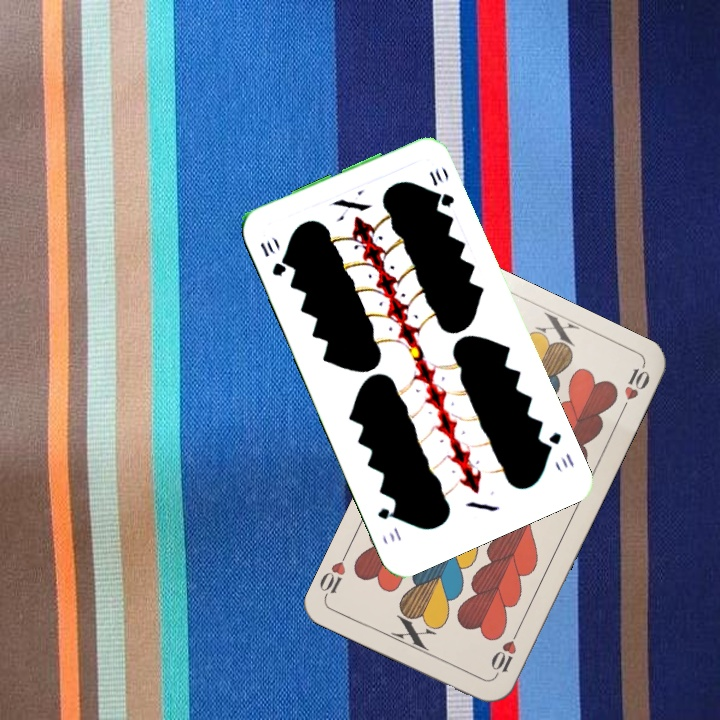G10: (539, 428, 577, 471), (256, 235, 289, 279)
H10: (486, 625, 522, 680)
